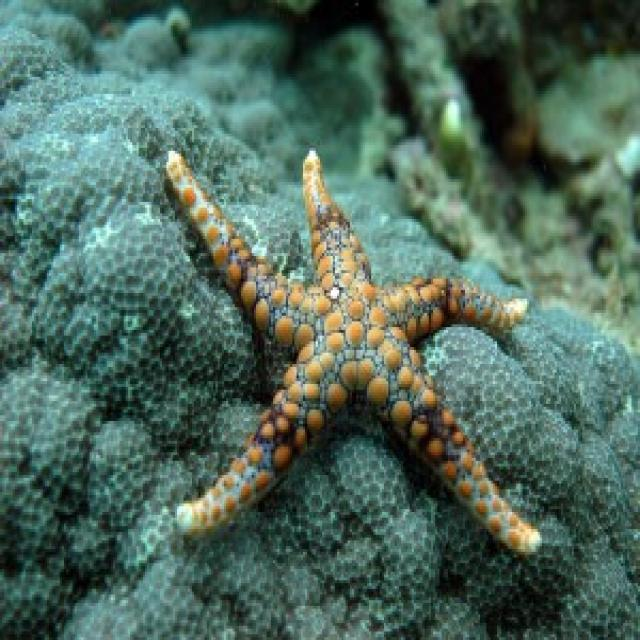Starfish: (154, 136, 544, 573)
